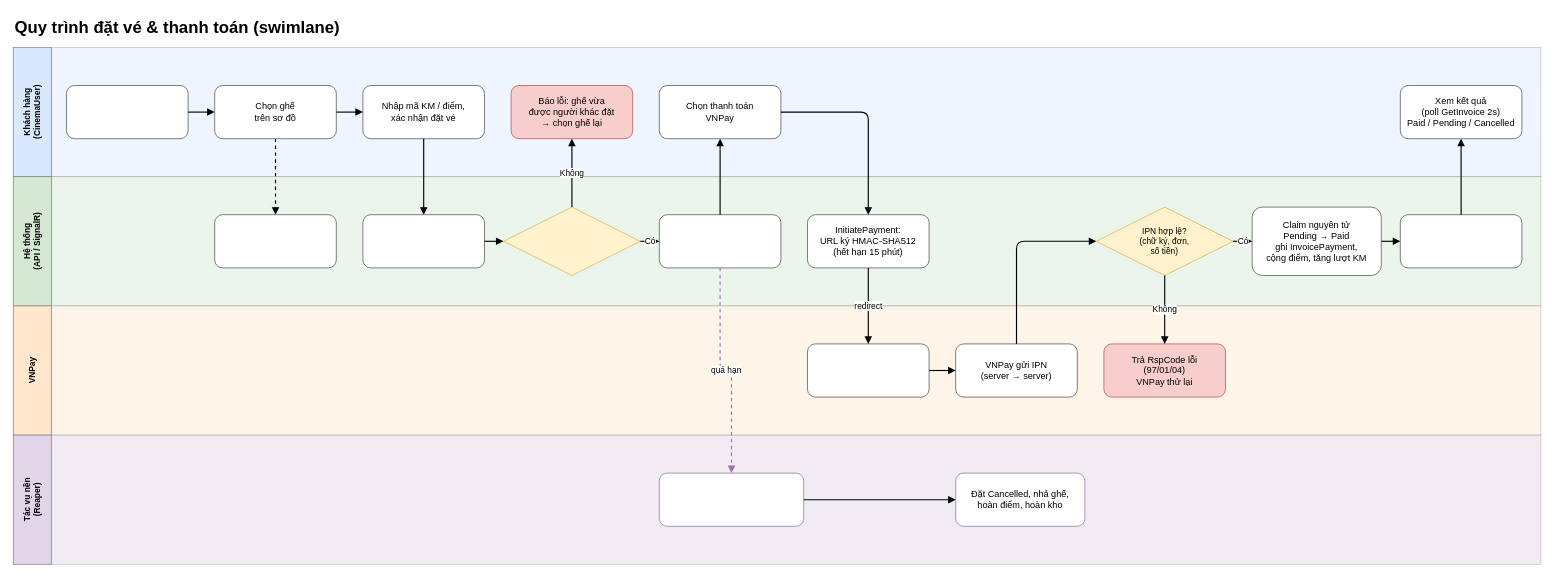
This 1554x578 diagram has some shape labels left out. The shapes that lost their labels are listed below. From the top down, each one's centre as x and y in pixels, then its label:
(127,112): Chọn phim, suất chiếu
(275,241): Khóa ghế tạm 5 phút (in-memory) SeatLocked broadcast
(423,241): CreateBooking: transaction tạo Invoice + InvoiceTicket
(571,241): Ghế còn trống?
(720,241): Invoice = Pending SeatBooked broadcast
(1461,241): Gửi email + SMS vé Trả RspCode 00
(868,370): Khách thanh toán trên trang VNPay
(731,499): Mỗi phút: Invoice Pending quá 15' (30' nếu đã bắt đầu thanh toán)
